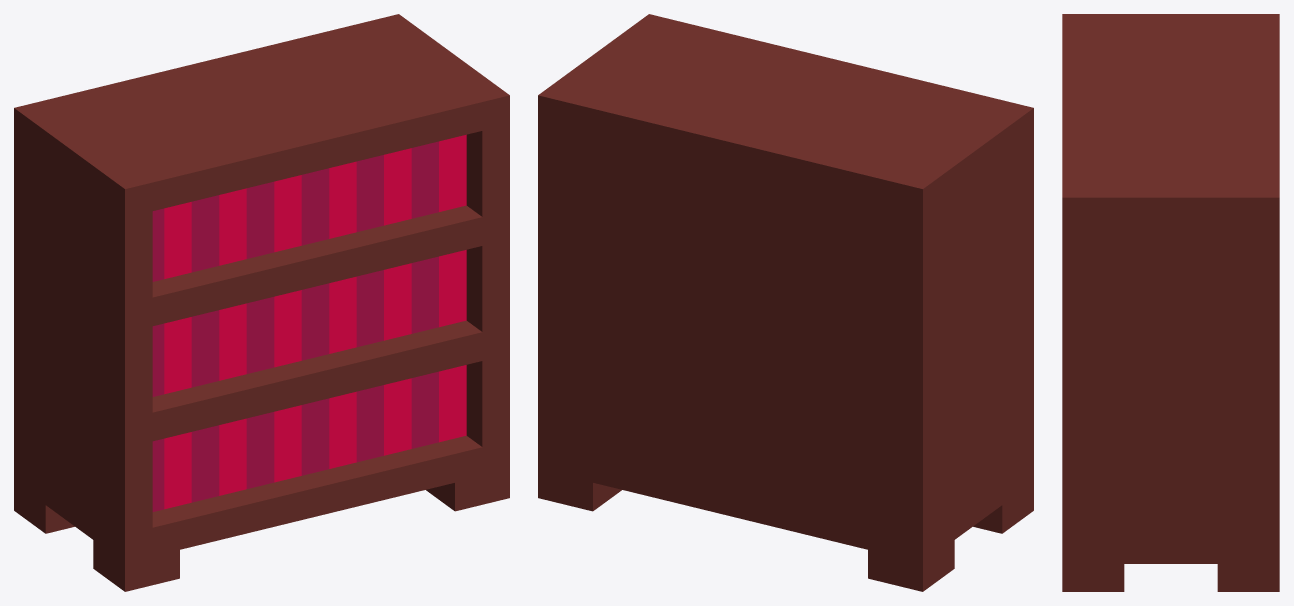
Rendered from large_bookcase_b_red.obj.
The picture shows the model from 3 angles, left to right: view 1: azimuth 30°, elevation 25°; view 2: azimuth 150°, elevation 25°; view 3: azimuth 270°, elevation 25°; orthographic projection. The views are drawn at different scales.
Bounding box in the file's own units: 1.4 × 1.4 × 0.7.
1 material, 1 textured.
